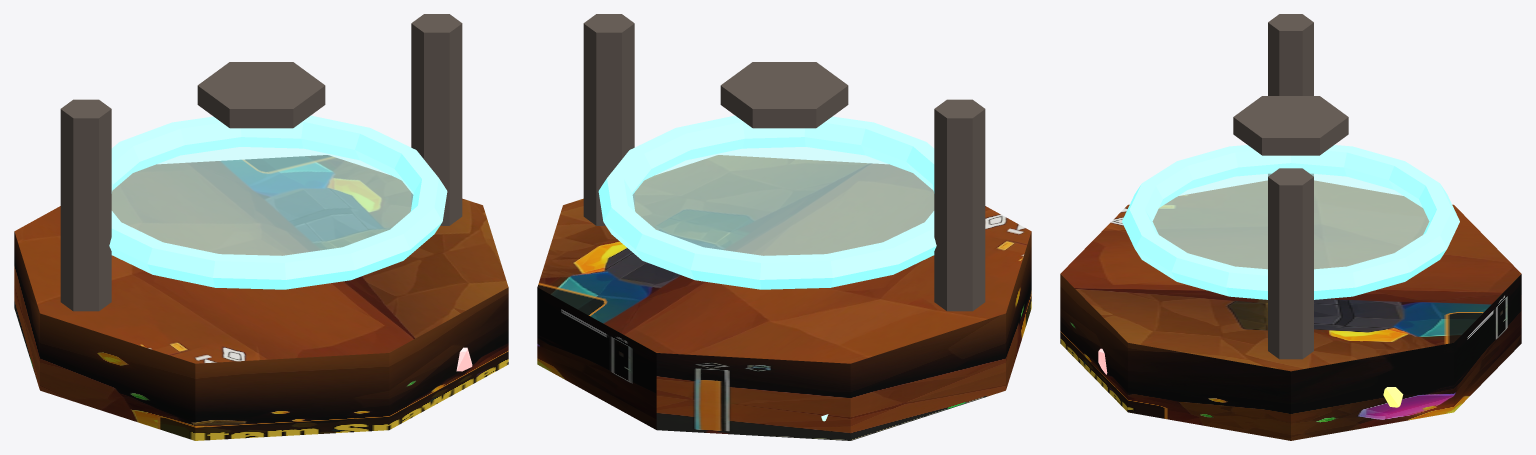
The model's file is item_spawner.glb.
3 renders of one model, left to right at view 1: azimuth 30°, elevation 25°; view 2: azimuth 150°, elevation 25°; view 3: azimuth 270°, elevation 25°, orthographic. The views are drawn at different scales.
Visible parts, largest first — view 1: Pedestal, PortalSurface, PortalRing, Pillar_L, Pillar_R, TopCap; view 2: Pedestal, PortalSurface, PortalRing, Pillar_L, Pillar_R, TopCap; view 3: Pedestal, PortalRing, PortalSurface, Pillar_R, TopCap, Pillar_L.
Part boxes in pixels (box(x1,y1,x2,y2)): Pedestal: box(14, 155, 508, 440); PortalSurface: box(111, 137, 413, 255); PortalRing: box(109, 115, 447, 289); Pillar_L: box(60, 99, 111, 311); Pillar_R: box(411, 14, 462, 225); TopCap: box(197, 62, 325, 128); Pedestal: box(537, 155, 1031, 440); PortalSurface: box(632, 137, 934, 255); PortalRing: box(598, 115, 936, 289); Pillar_L: box(934, 99, 985, 311); Pillar_R: box(583, 14, 634, 225); TopCap: box(720, 62, 848, 128); Pedestal: box(1060, 180, 1521, 440); PortalRing: box(1122, 145, 1459, 299); PortalSurface: box(1152, 163, 1429, 269); Pillar_R: box(1268, 168, 1313, 359); TopCap: box(1233, 96, 1348, 155); Pillar_L: box(1268, 14, 1313, 175).
Size of the model in its own units: 2.4 by 1.4 by 2.4.
8 materials, 1 textured.
